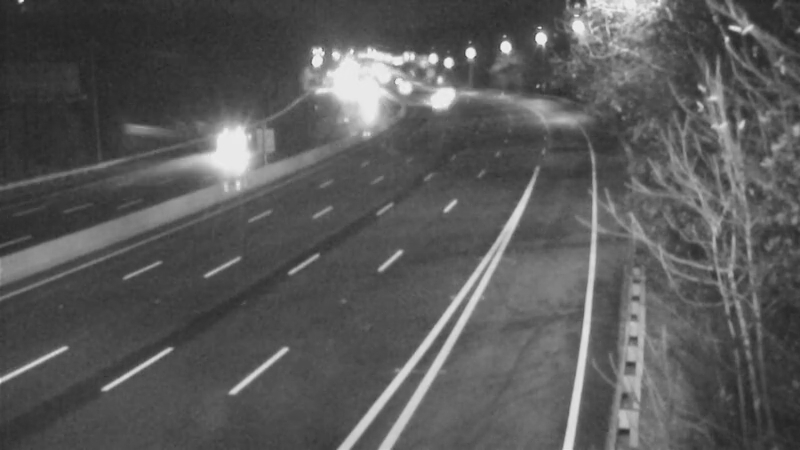vehicle: (384, 59, 434, 109), (422, 68, 472, 118), (412, 77, 462, 127), (207, 119, 257, 169)
